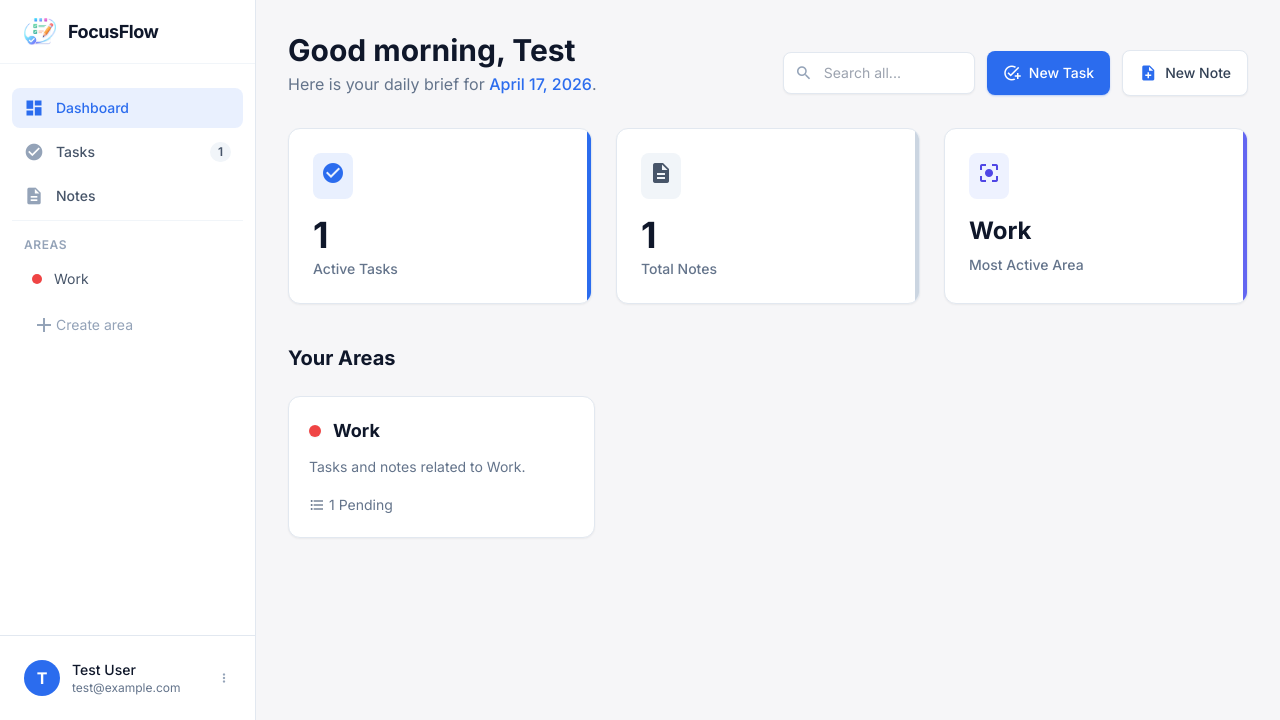
Test case: App Component › logs out and returns to login page
The image size is (1280, 720).
Step 1. Click the text "Test User" → (104, 670), box [72,661,136,678]
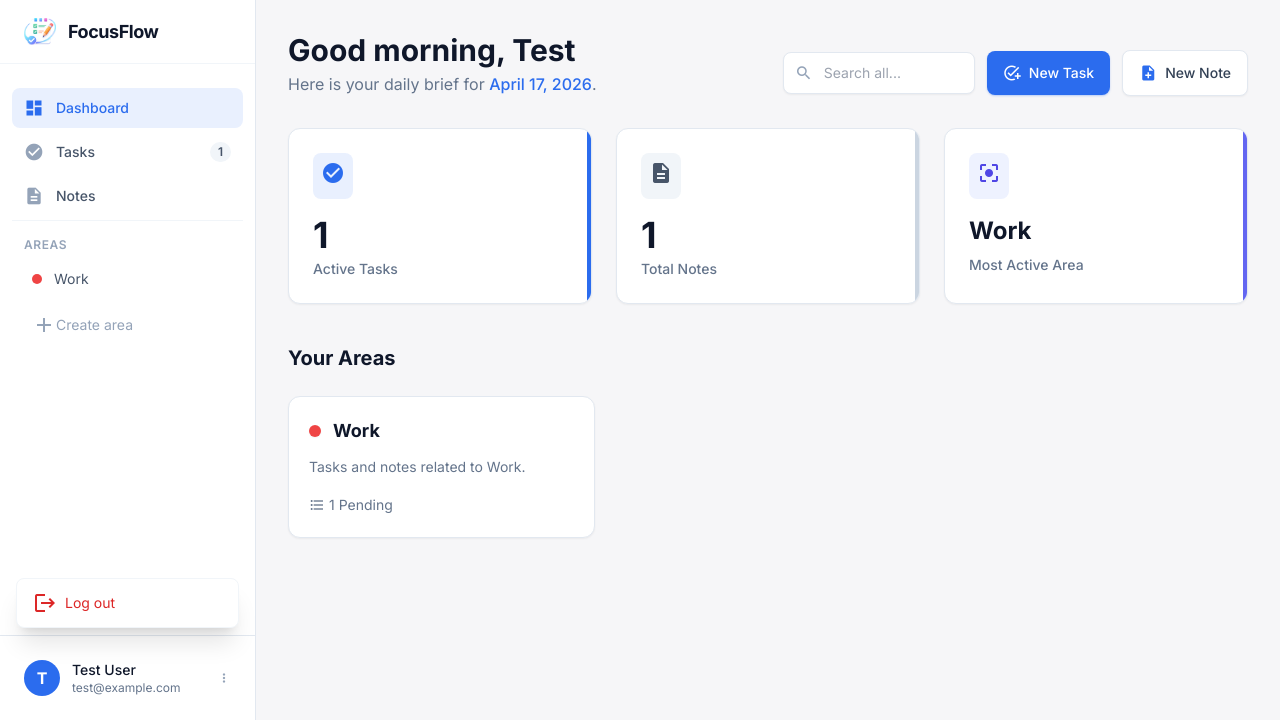
Step 2. Click the button "Log out" → (128, 603), box [17,583,238,623]
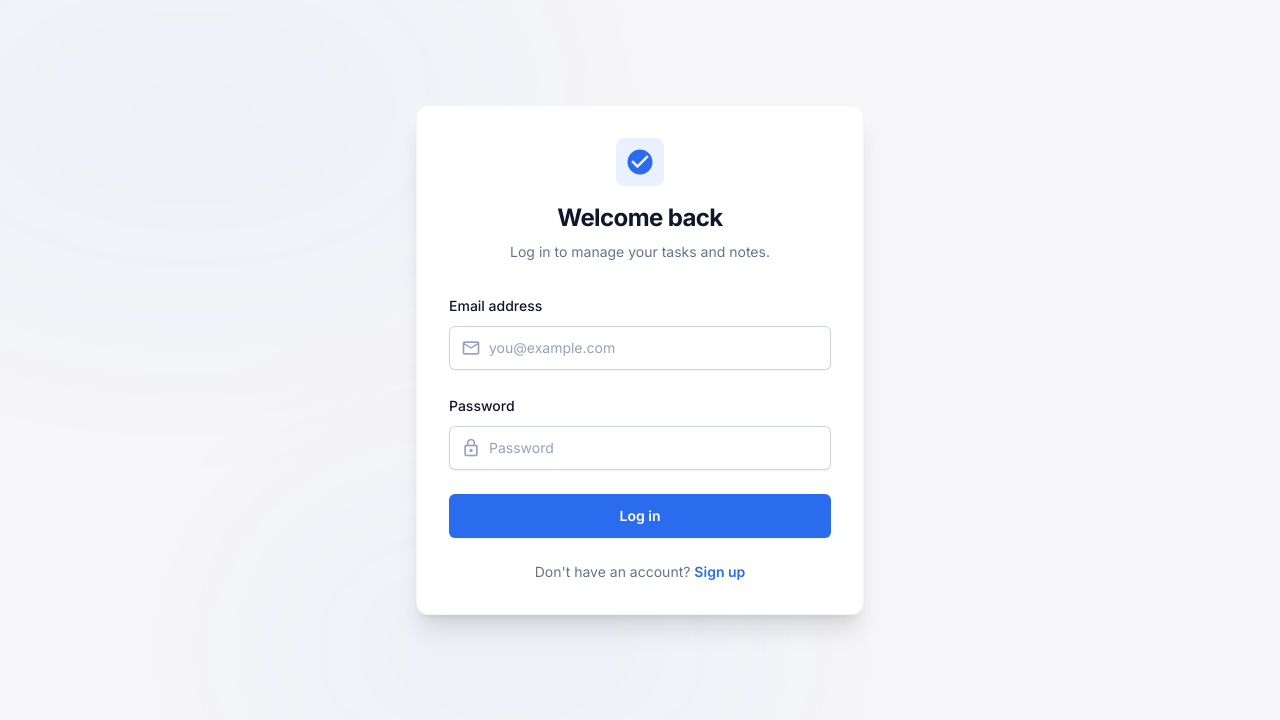
Now the heading "Welcome back" is shown, box [557,203,723,232]
